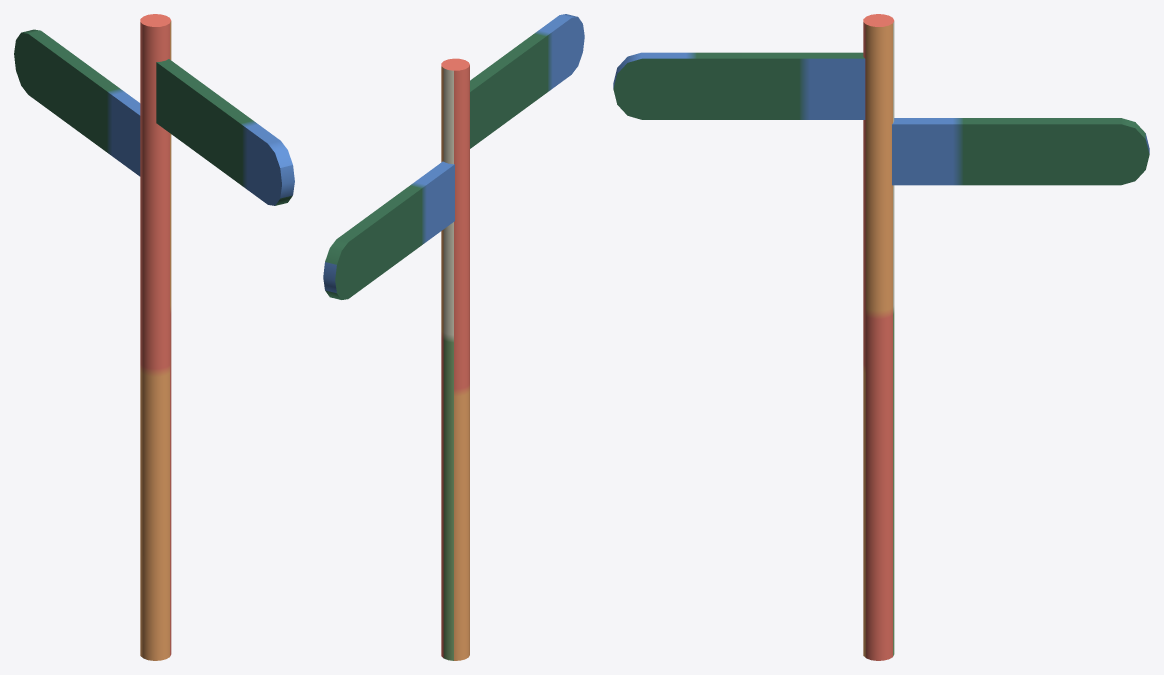
Rendered from RoadSign_01.fbx.
The picture shows the model from 3 angles, left to right: view 1: azimuth 30°, elevation 25°; view 2: azimuth 150°, elevation 25°; view 3: azimuth 270°, elevation 25°; orthographic projection. The views are drawn at different scales.
Parts seen in each view (by area): view 1: pCube159; view 2: pCube159; view 3: pCube159.
Boxes of the visible parts, bbox=[...] form: pCube159: bbox=[14, 14, 294, 660]; pCube159: bbox=[323, 14, 584, 660]; pCube159: bbox=[613, 14, 1149, 660].
Size of the model in its own units: 0.097 by 2.19 by 1.68.
1 material, 1 textured.
